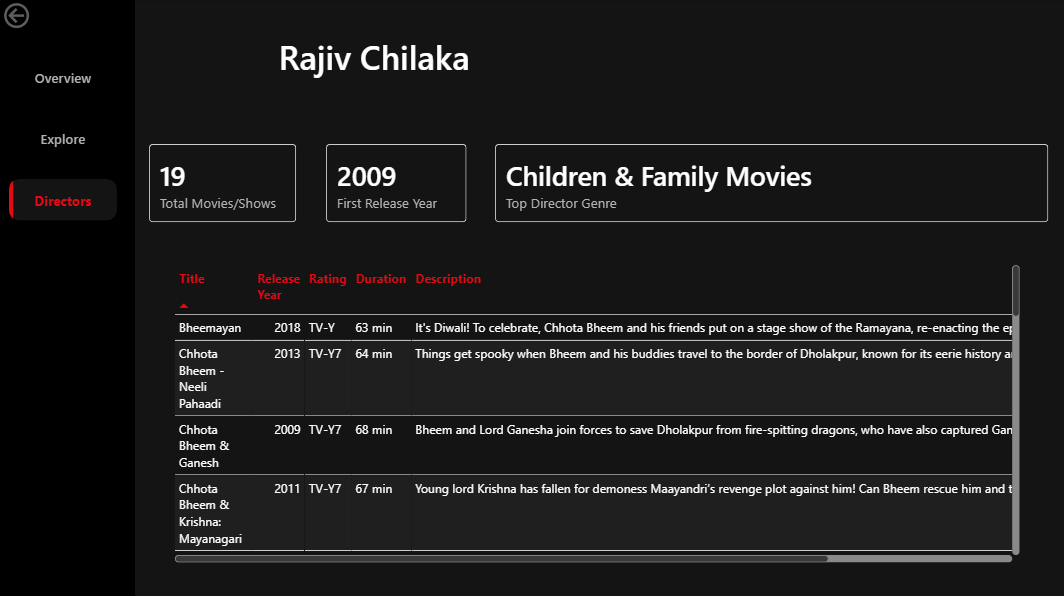

This screenshot's page, from the dashboard's own definition file:
{"tool":"powerbi","page":{"name":"Directors","canvas":[1280,720],"ordinal":2},"visuals":[{"type":"shape","box":[0,0,162.5,720],"z":0},{"type":"actionButton","box":[0,0,100,40],"z":1000},{"type":"cardVisual","fields":{"Data":["Min(netflix_cleaned_final.director)"]},"box":[268.5,21.7,364.8,93.9],"z":2000},{"type":"cardVisual","fields":{"Data":["netflix_cleaned_final.Total Titles"]},"box":[162.5,157.7,211.9,128.8],"z":3000},{"type":"cardVisual","fields":{"Data":["netflix_cleaned_final.Top Director Genre"]},"box":[579.1,157.7,700.7,128.8],"z":4000},{"type":"cardVisual","fields":{"Data":["netflix_cleaned_final.Career Start"]},"box":[375.1,157.7,203.5,128.8],"z":5000},{"type":"tableEx","fields":{"Values":["netflix_cleaned_final.title","netflix_cleaned_final.release_year","netflix_cleaned_final.rating","netflix_cleaned_final.duration","netflix_cleaned_final.description"]},"box":[204.7,315.5,1028.2,368.4],"z":6000},{"type":"pageNavigator","box":[10.8,68.6,130,198.7],"z":7000}]}

Visuals, with their boxes on the page's 1280x720 design canvas (x1, y1, x2, y2). These are canvas units, not pixel positions in the 1064x596 screenshot, which may show the page scaled, cropped or inside an application window:
shape: <region>0, 0, 162, 720</region>
actionButton: <region>0, 0, 100, 40</region>
cardVisual - Min(netflix_cleaned_final.director): <region>268, 22, 633, 116</region>
cardVisual - netflix_cleaned_final.Total Titles: <region>162, 158, 374, 286</region>
cardVisual - netflix_cleaned_final.Top Director Genre: <region>579, 158, 1280, 286</region>
cardVisual - netflix_cleaned_final.Career Start: <region>375, 158, 579, 286</region>
tableEx - netflix_cleaned_final.title x netflix_cleaned_final.release_year: <region>205, 316, 1233, 684</region>
pageNavigator: <region>11, 69, 141, 267</region>
